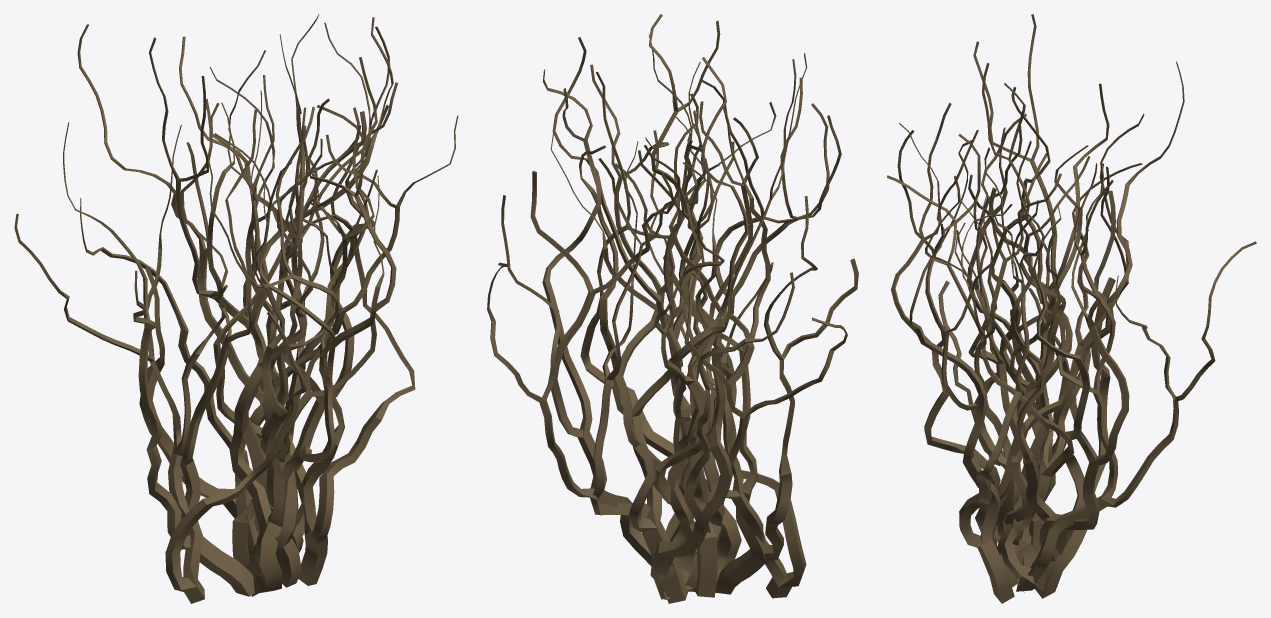
Rendered from plant_swamp_root_A_dense.fbx.
3 renders of one model, left to right at view 1: azimuth 30°, elevation 25°; view 2: azimuth 150°, elevation 25°; view 3: azimuth 270°, elevation 25°, orthographic. The views are drawn at different scales.
Visible parts, largest first — view 1: plant_swamp_root_A_dense; view 2: plant_swamp_root_A_dense; view 3: plant_swamp_root_A_dense.
Part boxes in pixels (left/top/right/bottom): plant_swamp_root_A_dense: left=14, top=14, right=458, bottom=603; plant_swamp_root_A_dense: left=487, top=14, right=858, bottom=603; plant_swamp_root_A_dense: left=887, top=14, right=1256, bottom=603.
Size of the model in its own units: 521 by 826 by 525.
